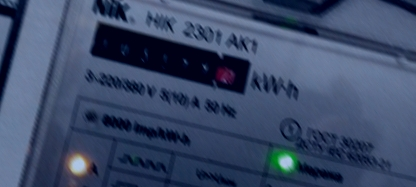0: (93, 33, 109, 54), (116, 37, 129, 58)
1: (157, 44, 169, 65)
3: (136, 44, 148, 64)
6: (216, 71, 229, 88)
9: (176, 51, 188, 71), (196, 58, 208, 78)
screen: (78, 16, 258, 102)
